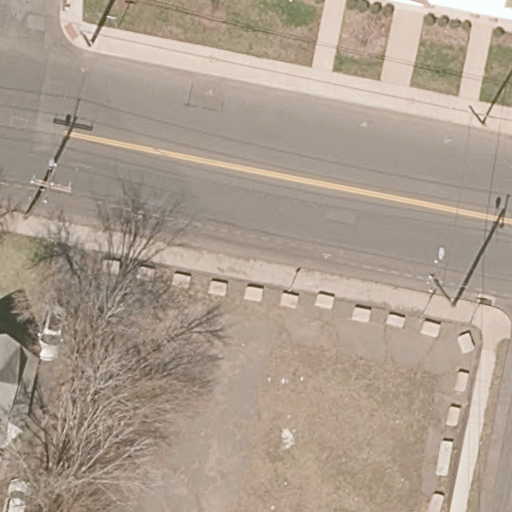DT: (22, 162, 71, 221), (424, 270, 458, 308), (461, 101, 487, 127), (72, 19, 93, 48)
